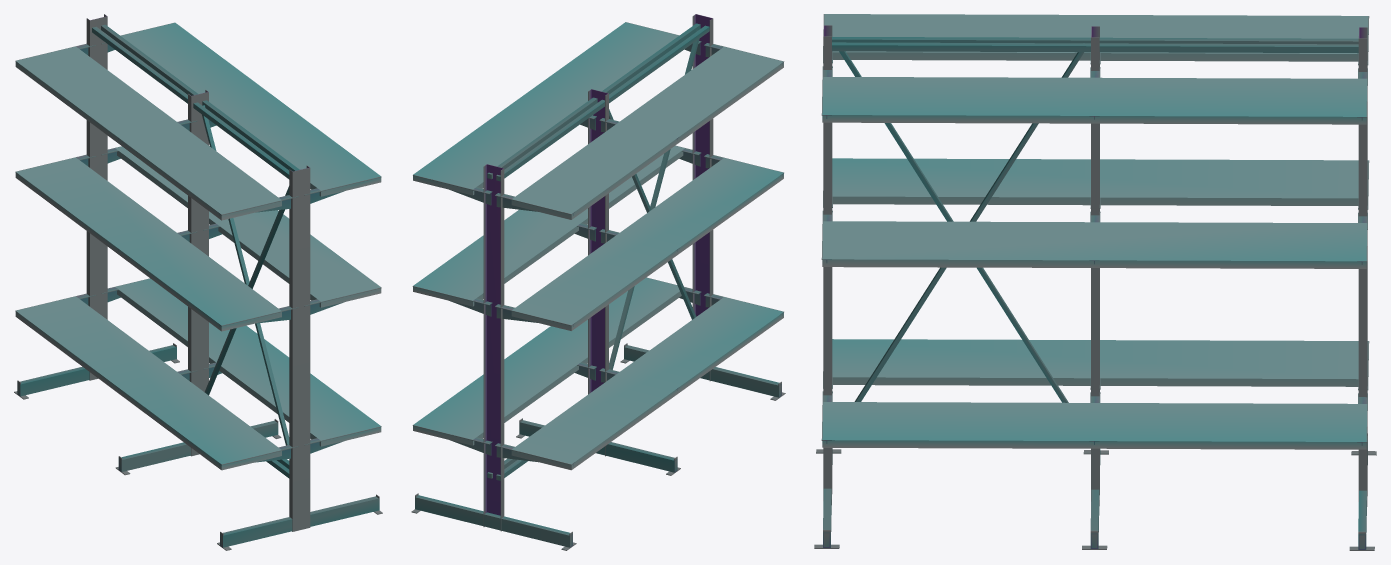
The model's file is simready-rack_f10.glb.
3 renders of one model, left to right at view 1: azimuth 30°, elevation 25°; view 2: azimuth 150°, elevation 25°; view 3: azimuth 270°, elevation 25°, orthographic. The views are drawn at different scales.
Parts seen in each view (by area): view 1: middle_shelf.003, top_shelf.003, bottom_shelf.003, top_shelf, bottom_shelf, upright.001, middle_shelf, upright.003, upright.002, foot.001, tie.003, tie.002 (+4 smaller); view 2: bottom_shelf.003, top_shelf.003, middle_shelf.003, top_shelf, bottom_shelf, middle_shelf, upright.003, upright.001, upright.002, foot.003, tie.003, tie.002 (+4 smaller); view 3: middle_shelf, bottom_shelf, top_shelf, bottom_shelf.003, middle_shelf.003, top_shelf.003, tie.002, tie.003, upright.003, upright.001, upright.002, diagonal.001 (+1 smaller).
Part boxes in pixels (box(x1,y1,x2,y2)): middle_shelf.003: box(15, 157, 281, 331); top_shelf.003: box(15, 46, 281, 220); bottom_shelf.003: box(15, 296, 281, 470); top_shelf: box(120, 22, 381, 196); bottom_shelf: box(115, 278, 381, 446); upright.001: box(289, 165, 310, 531); middle_shelf: box(115, 146, 381, 307); upright.003: box(86, 14, 107, 380); upright.002: box(188, 89, 208, 456); foot.001: box(220, 496, 379, 547); tie.003: box(92, 26, 289, 179); tie.002: box(101, 24, 299, 171); bottom_shelf.003: box(511, 297, 783, 470); top_shelf.003: box(511, 46, 783, 219); middle_shelf.003: box(511, 158, 783, 330); top_shelf: box(413, 22, 678, 195); bottom_shelf: box(413, 277, 684, 445); middle_shelf: box(413, 145, 684, 306); upright.003: box(483, 164, 504, 531); upright.001: box(692, 14, 713, 381); upright.002: box(588, 89, 608, 456); foot.003: box(415, 495, 572, 547); tie.003: box(496, 25, 709, 181); tie.002: box(487, 23, 700, 179); middle_shelf: box(822, 221, 1367, 268); bottom_shelf: box(822, 402, 1367, 449); top_shelf: box(822, 77, 1367, 124); bottom_shelf.003: box(832, 339, 1368, 386); middle_shelf.003: box(832, 158, 1368, 205); top_shelf.003: box(824, 14, 1368, 61); tie.002: box(832, 42, 1358, 53); tie.003: box(832, 37, 1358, 44); upright.003: box(1358, 27, 1367, 506); upright.001: box(823, 25, 832, 504); upright.002: box(1091, 26, 1099, 505); diagonal.001: box(839, 51, 1068, 402).
Size of the model in its own units: 0.9172 by 1.95 by 2.12.
